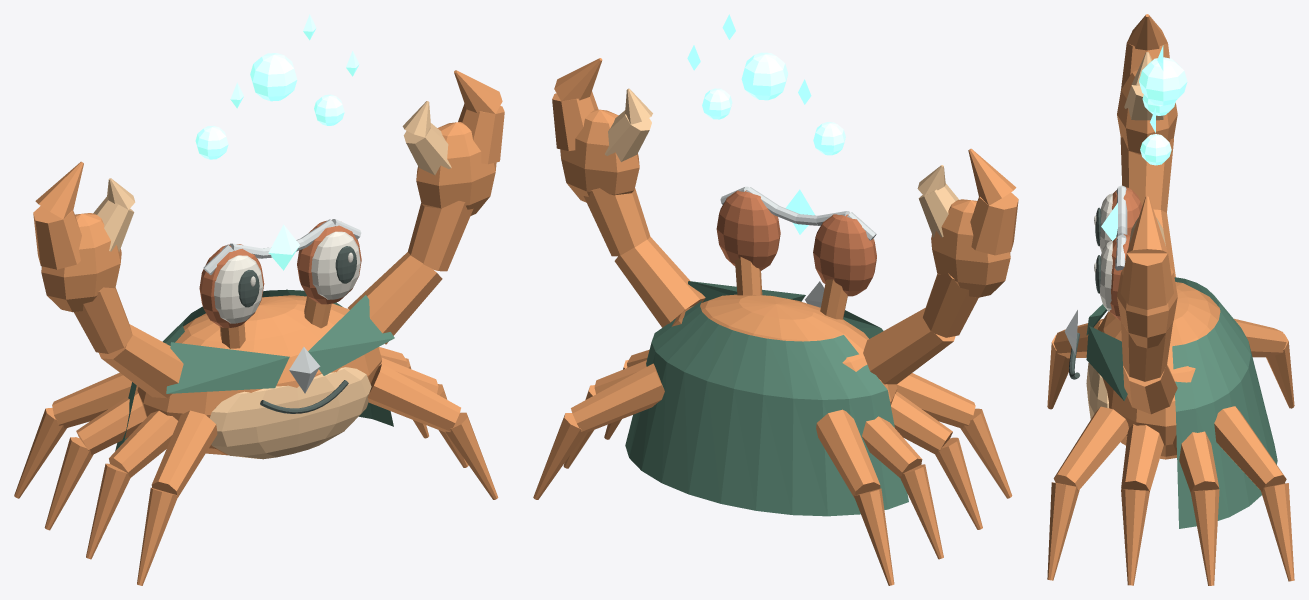
The model's file is crab.glb.
The picture shows the model from 3 angles, left to right: view 1: azimuth 30°, elevation 25°; view 2: azimuth 150°, elevation 25°; view 3: azimuth 270°, elevation 25°; orthographic projection.
Visible parts, largest first — view 1: cream_belly, carapace, cape_collar_-1, claw_palm_1, claw_palm_-1, arm_10, leg_1_00, arm_-10, leg_-1_00, cape_collar_1, arm_11, arm_-11 (+25 smaller); view 2: forest_cape, carapace, claw_palm_1, claw_palm_-1, arm_10, eye_outline_-1, eye_outline_1, arm_-10, leg_1_30, leg_-1_30, arm_11, outer_pincer_-10 (+20 smaller); view 3: forest_cape, carapace, leg_1_00, leg_1_30, outer_pincer_10, arm_-11, leg_1_10, claw_palm_1, leg_1_20, claw_palm_-1, leg_1_01, leg_1_31 (+22 smaller).
Part boxes in pixels (bbox=[...]): cream_belly: bbox=[209, 367, 371, 459]; carapace: bbox=[137, 295, 381, 455]; cape_collar_-1: bbox=[166, 342, 289, 393]; claw_palm_1: bbox=[416, 122, 496, 215]; claw_palm_-1: bbox=[41, 213, 121, 312]; arm_10: bbox=[348, 252, 442, 344]; leg_1_00: bbox=[367, 364, 460, 432]; arm_-10: bbox=[99, 324, 183, 398]; leg_-1_00: bbox=[151, 410, 217, 497]; cape_collar_1: bbox=[308, 295, 394, 375]; arm_11: bbox=[408, 201, 473, 271]; arm_-11: bbox=[74, 287, 132, 353]; forest_cape: bbox=[625, 300, 908, 516]; carapace: bbox=[671, 294, 897, 405]; claw_palm_1: bbox=[560, 109, 639, 202]; claw_palm_-1: bbox=[931, 199, 1010, 297]; arm_10: bbox=[614, 236, 705, 327]; eye_outline_-1: bbox=[813, 214, 876, 296]; eye_outline_1: bbox=[716, 190, 780, 270]; arm_-10: bbox=[863, 308, 955, 384]; leg_1_30: bbox=[571, 363, 664, 432]; leg_-1_30: bbox=[816, 409, 880, 498]; arm_11: bbox=[583, 188, 650, 256]; outer_pincer_-10: bbox=[970, 192, 1018, 255]; forest_cape: bbox=[1172, 277, 1277, 528]; carapace: bbox=[1097, 282, 1220, 459]; leg_1_00: bbox=[1053, 406, 1128, 490]; leg_1_30: bbox=[1214, 406, 1286, 492]; outer_pincer_10: bbox=[1120, 253, 1173, 309]; arm_-11: bbox=[1120, 137, 1173, 212]; leg_1_10: bbox=[1121, 424, 1163, 491]; claw_palm_1: bbox=[1117, 267, 1177, 348]; leg_1_20: bbox=[1173, 431, 1219, 492]; claw_palm_-1: bbox=[1117, 66, 1177, 155]; leg_1_01: bbox=[1047, 482, 1079, 580]; leg_1_31: bbox=[1261, 483, 1294, 581].
Bounding box in the file's own units: 4.41 × 4.29 × 2.03.
